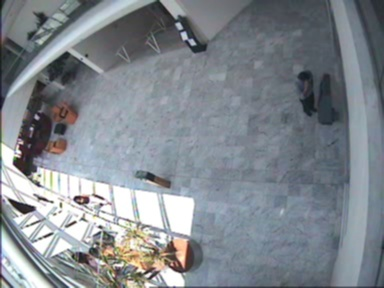person: (294, 70, 318, 117), (72, 194, 111, 209)
